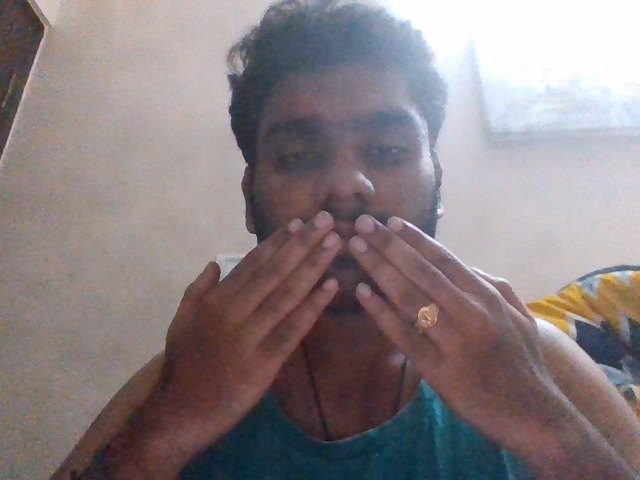thank you: (144, 206, 580, 438)
